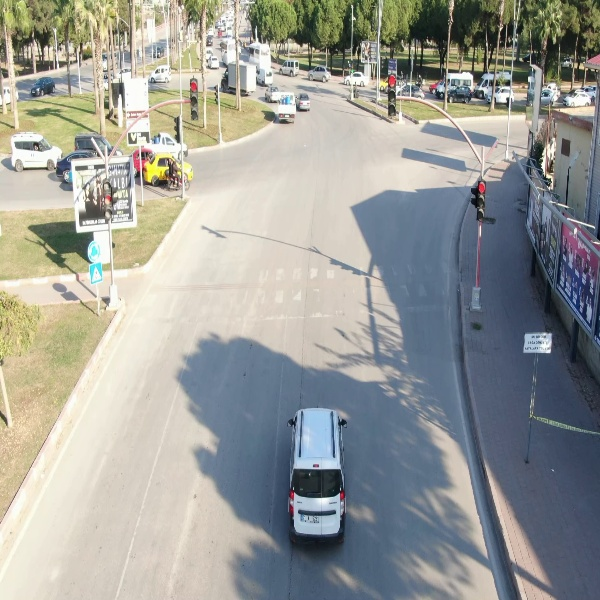car: (282, 404, 353, 551), (10, 132, 65, 173), (560, 88, 594, 109), (28, 75, 56, 99), (149, 61, 174, 87), (341, 70, 372, 89), (447, 83, 474, 103), (486, 84, 514, 103), (304, 65, 332, 82), (279, 59, 300, 78), (297, 91, 313, 114)
